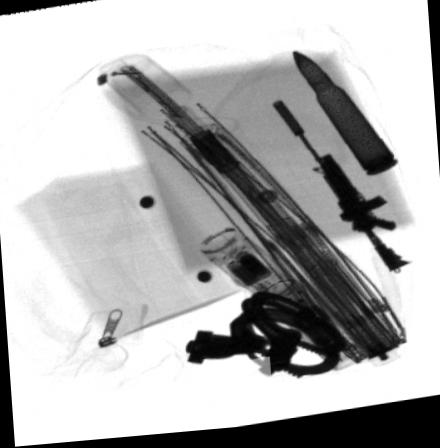Baton: (198, 233, 363, 380)
Bullet: (293, 54, 398, 183)
Gun: (269, 102, 413, 279)
HandCuffs: (185, 295, 350, 386)
